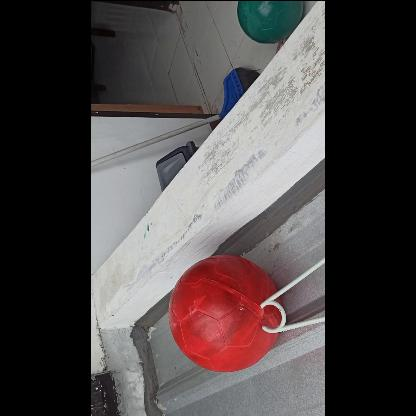red_ball: (168, 256, 282, 370)
